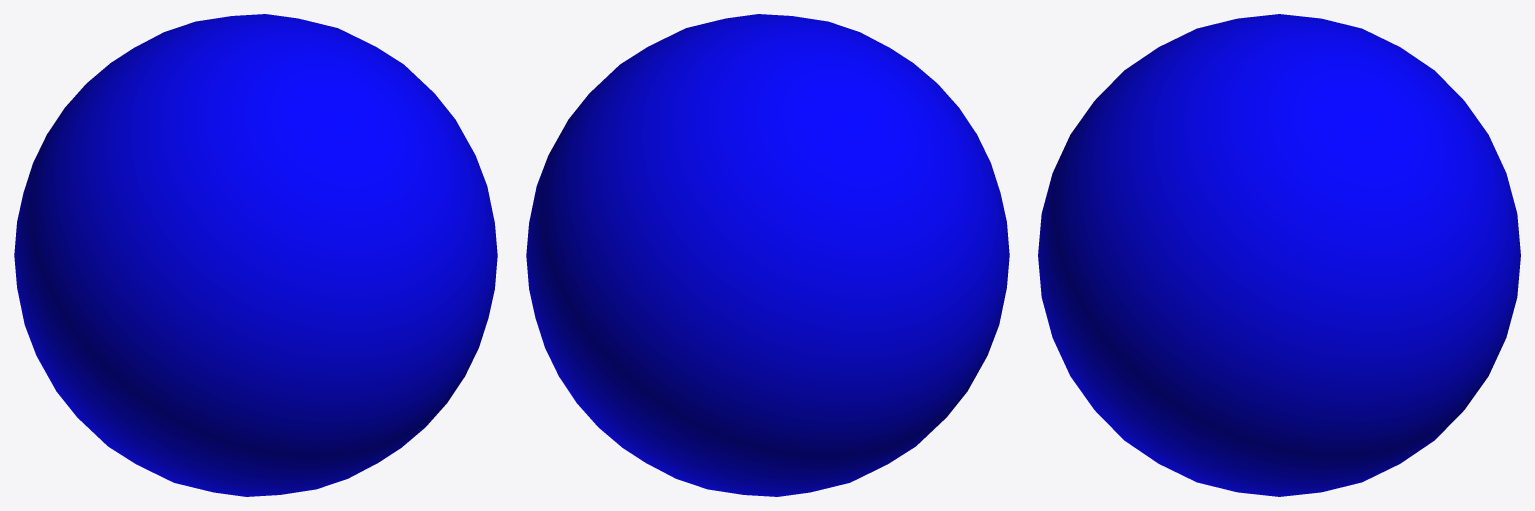
3 views of the same model, side by side, from view 1: azimuth 30°, elevation 25°; view 2: azimuth 150°, elevation 25°; view 3: azimuth 270°, elevation 25° (orthographic).
Visible parts, largest first — view 1: Speech Bubble; view 2: Speech Bubble; view 3: Speech Bubble.
Part boxes in pixels (x1=…): Speech Bubble: x1=14, y1=14, x2=497, y2=496; Speech Bubble: x1=526, y1=14, x2=1009, y2=496; Speech Bubble: x1=1038, y1=14, x2=1520, y2=496.
Bounding box in the file's own units: 0.1775 × 0.1771 × 0.1778.
